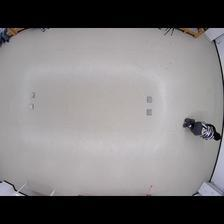fall: (181, 114, 222, 143)
